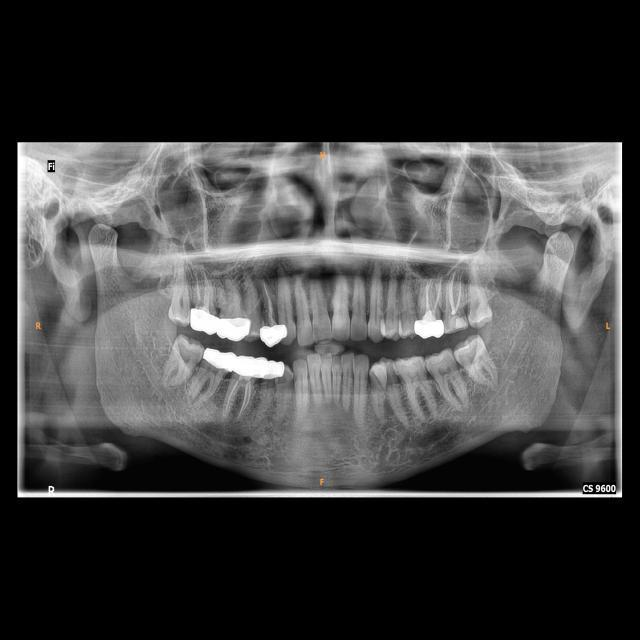dolgu: (451, 313, 468, 333)
kanal-tedavisi: (226, 380, 254, 415), (421, 280, 444, 317), (445, 276, 463, 314), (262, 280, 277, 324)
kaplama: (200, 348, 236, 372), (216, 316, 250, 340), (190, 308, 219, 336), (233, 357, 263, 379), (261, 358, 285, 384), (260, 323, 288, 345), (414, 318, 444, 338)
